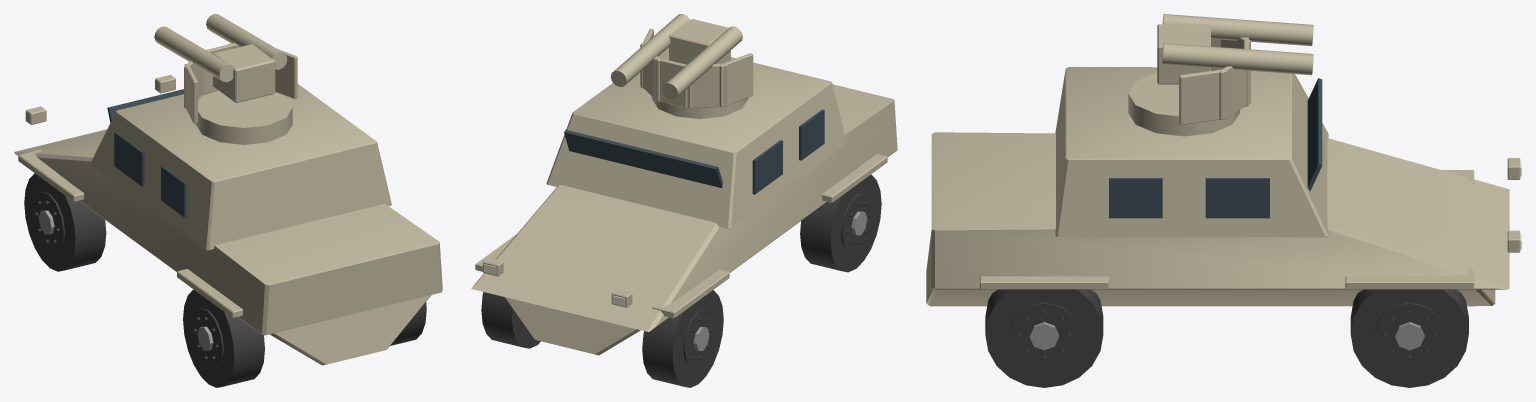
Rendered from rus_td_kornet.glb.
3 renders of one model, left to right at view 1: azimuth 30°, elevation 25°; view 2: azimuth 150°, elevation 25°; view 3: azimuth 270°, elevation 25°, orthographic. The views are drawn at different scales.
Parts seen in each view (by area): view 1: body, turret, barrel, wheel_2, wheel_0, wheel_3; view 2: body, wheel_0, wheel_2, barrel, turret, wheel_1; view 3: body, wheel_1, wheel_3, barrel, turret.
Boxes of the visible parts, x1,y1,x2,y2 form: body: [14, 74, 442, 365]; turret: [184, 43, 297, 144]; barrel: [154, 14, 287, 103]; wheel_2: [183, 289, 264, 387]; wheel_0: [24, 173, 106, 271]; wheel_3: [390, 302, 426, 345]; body: [471, 47, 897, 355]; wheel_0: [642, 290, 723, 387]; wheel_2: [800, 174, 881, 272]; barrel: [610, 14, 742, 99]; turret: [640, 29, 753, 118]; wheel_1: [481, 292, 540, 348]; body: [926, 67, 1521, 306]; wheel_1: [1350, 289, 1468, 387]; wheel_3: [985, 289, 1103, 387]; barrel: [1157, 14, 1313, 84]; turret: [1128, 37, 1250, 136].
Size of the model in its own units: 2.5 by 3.13 by 5.54.
